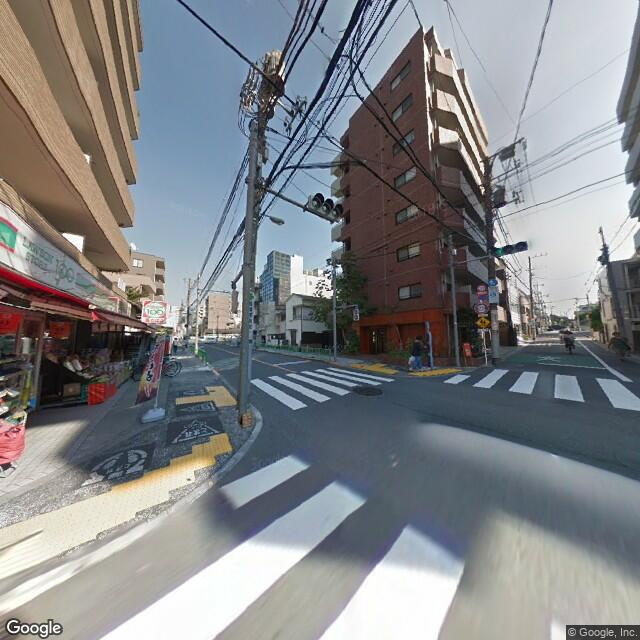lawson: (1, 202, 116, 315), (141, 298, 168, 327)
